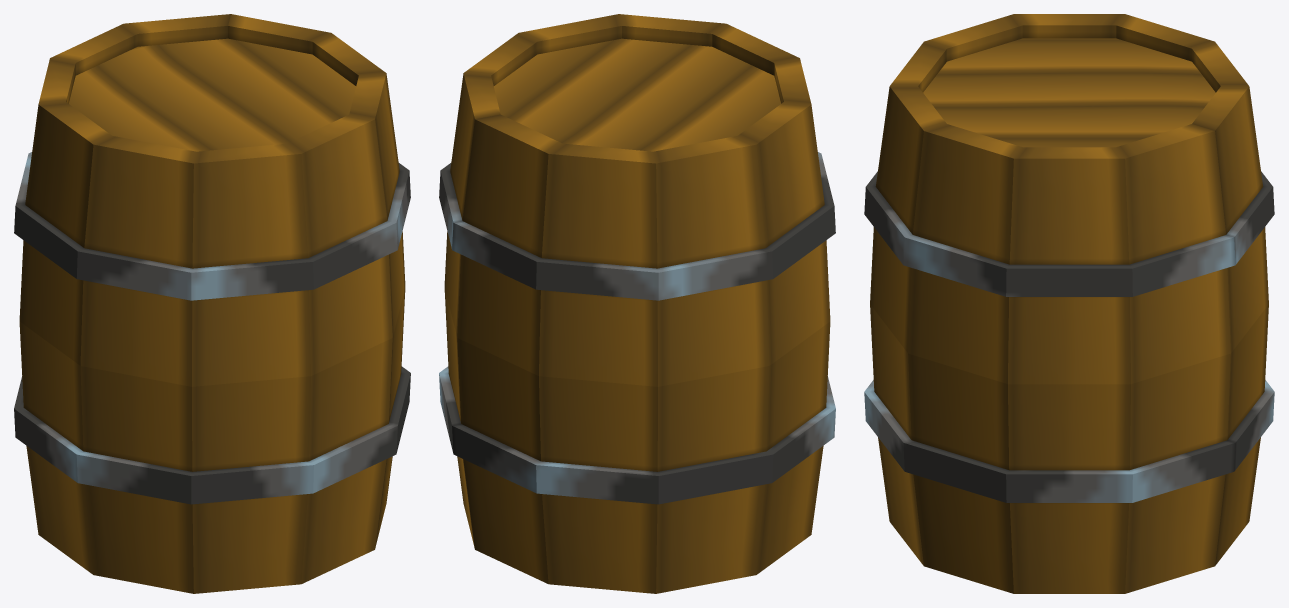
Rendered from barrel(1).fbx.
3 views of the same model, side by side, from view 1: azimuth 30°, elevation 25°; view 2: azimuth 150°, elevation 25°; view 3: azimuth 270°, elevation 25° (orthographic).
Visible parts, largest first — view 1: Barrel; view 2: Barrel; view 3: Barrel.
Part boxes in pixels (x1,y1,x2,y2): Barrel: (14,14,410,593); Barrel: (439,14,835,593); Barrel: (864,14,1274,593).
Size of the model in its own units: 46.91 by 57.72 by 49.32.
Materials: 1 (1 with a texture image).
